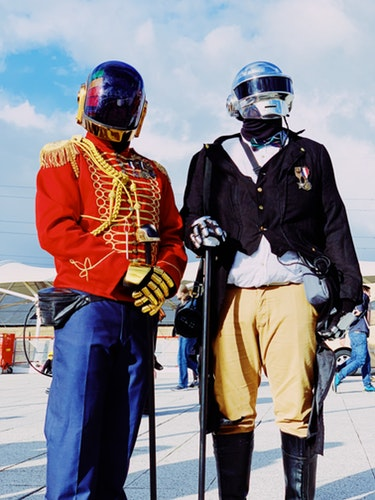helmet: (78, 61, 155, 134), (224, 62, 305, 128)
